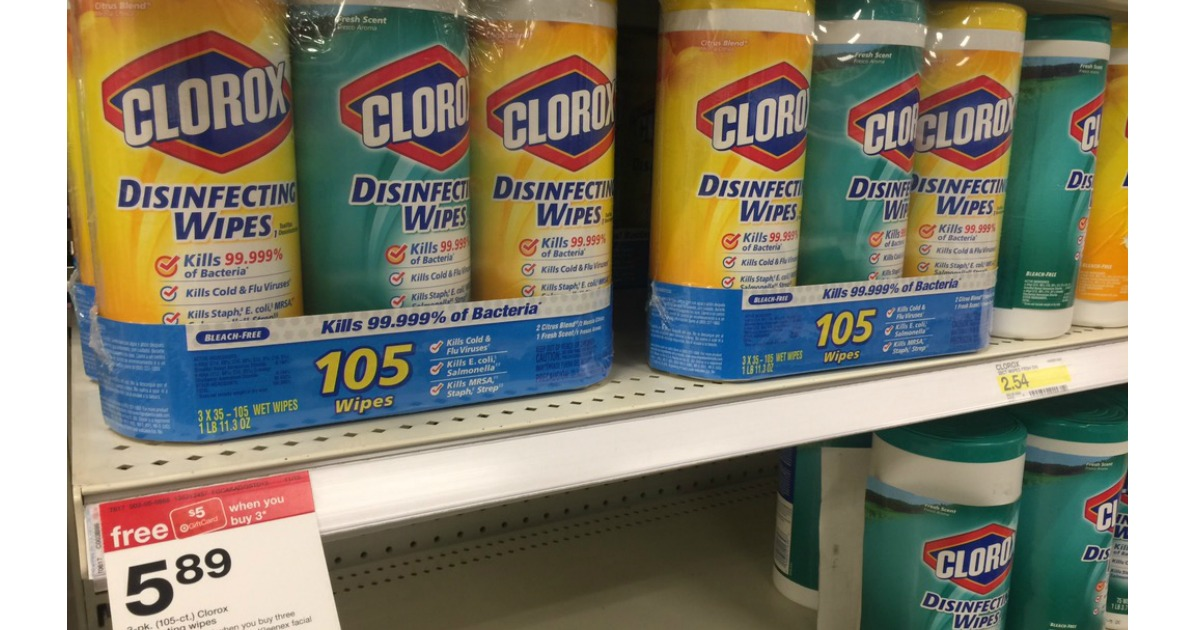Wipes: (74, 3, 298, 447), (291, 4, 479, 419), (641, 3, 824, 379), (459, 1, 620, 399), (794, 4, 936, 375), (901, 4, 1029, 361), (858, 405, 1031, 630), (979, 5, 1091, 343), (998, 388, 1130, 630), (763, 424, 886, 612), (1060, 5, 1126, 333)
